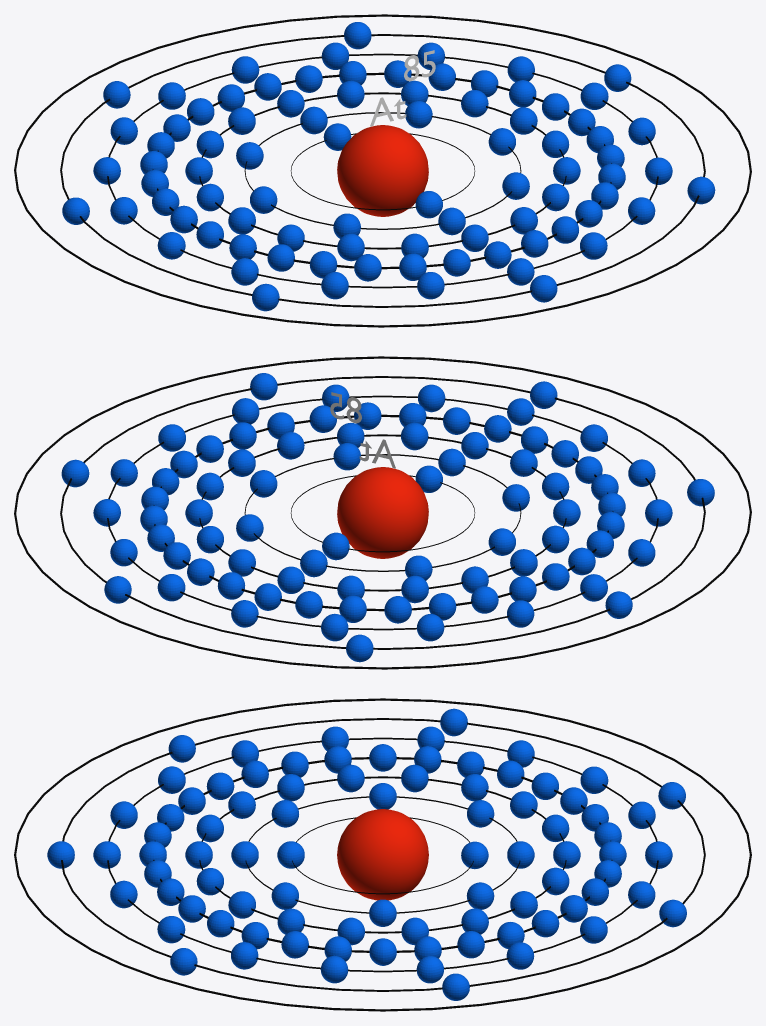
3 renders of one model, top to bottom at view 1: azimuth 30°, elevation 25°; view 2: azimuth 150°, elevation 25°; view 3: azimuth 270°, elevation 25°, orthographic.
Parts seen in each view (by area): view 1: At4, At5, At3, Proton, At2, n7, At6, n6, n5, At1, n3, n4 (+1 smaller); view 2: At4, At5, At3, Proton, At2, n7, At6, n6, n5, At1, n3, n4 (+1 smaller); view 3: At4, At3, At5, Proton, At2, n7, At6, n6, n5, At1, n3, n4 (+2 smaller).
Boxes of the visible parts, x1=… form: At4: x1=140, y1=60, x2=625, y2=281; At5: x1=93, y1=42, x2=672, y2=299; At3: x1=185, y1=80, x2=580, y2=261; Proton: x1=337, y1=125, x2=428, y2=216; At2: x1=236, y1=101, x2=529, y2=238; n7: x1=14, y1=14, x2=751, y2=327; At6: x1=62, y1=22, x2=715, y2=311; n6: x1=60, y1=34, x2=705, y2=307; n5: x1=107, y1=53, x2=658, y2=288; At1: x1=323, y1=123, x2=442, y2=218; n3: x1=199, y1=92, x2=566, y2=249; n4: x1=152, y1=72, x2=611, y2=269; At4: x1=140, y1=402, x2=625, y2=623; At5: x1=93, y1=384, x2=672, y2=641; At3: x1=185, y1=422, x2=580, y2=603; Proton: x1=337, y1=467, x2=428, y2=558; At2: x1=236, y1=443, x2=529, y2=580; n7: x1=14, y1=356, x2=751, y2=669; At6: x1=61, y1=373, x2=714, y2=662; n6: x1=60, y1=376, x2=705, y2=649; n5: x1=107, y1=395, x2=658, y2=630; At1: x1=322, y1=465, x2=442, y2=560; n3: x1=199, y1=434, x2=566, y2=591; n4: x1=153, y1=414, x2=613, y2=611; At4: x1=139, y1=744, x2=626, y2=965; At3: x1=185, y1=764, x2=580, y2=945; At5: x1=93, y1=726, x2=672, y2=983; Proton: x1=337, y1=809, x2=428, y2=900; At2: x1=231, y1=783, x2=534, y2=926; n7: x1=14, y1=698, x2=751, y2=1011; At6: x1=47, y1=708, x2=686, y2=1000; n6: x1=61, y1=718, x2=705, y2=991; n5: x1=107, y1=737, x2=658, y2=972; At1: x1=277, y1=841, x2=488, y2=869; n3: x1=199, y1=776, x2=566, y2=933; n4: x1=153, y1=757, x2=612, y2=952.
Bounding box in the file's own units: 802 × 180 × 802.
